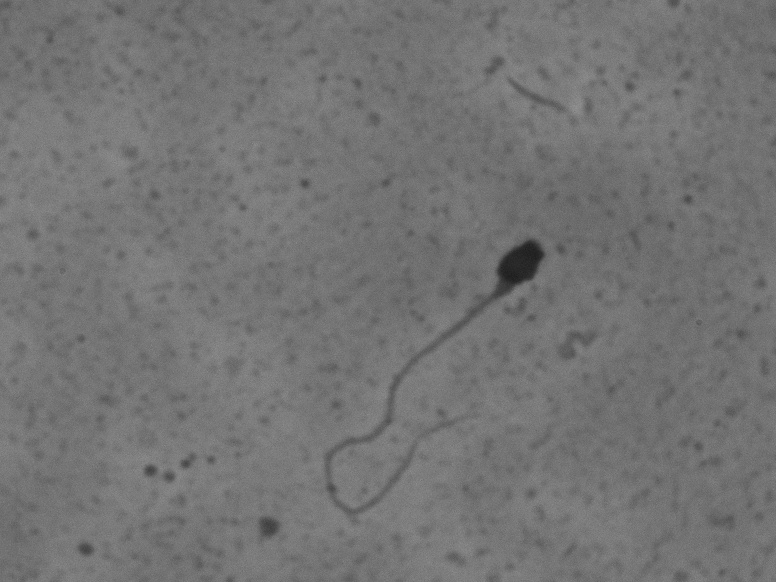Abnormal: (263, 195, 579, 524)
